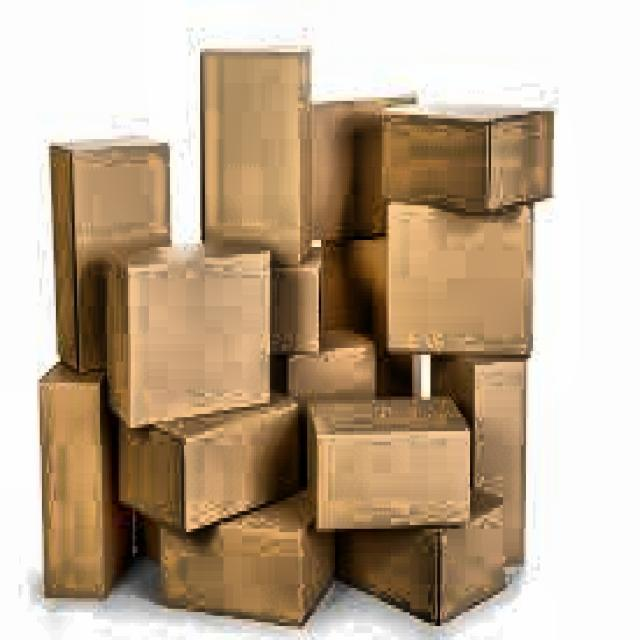cardboard: (37, 41, 554, 626)
